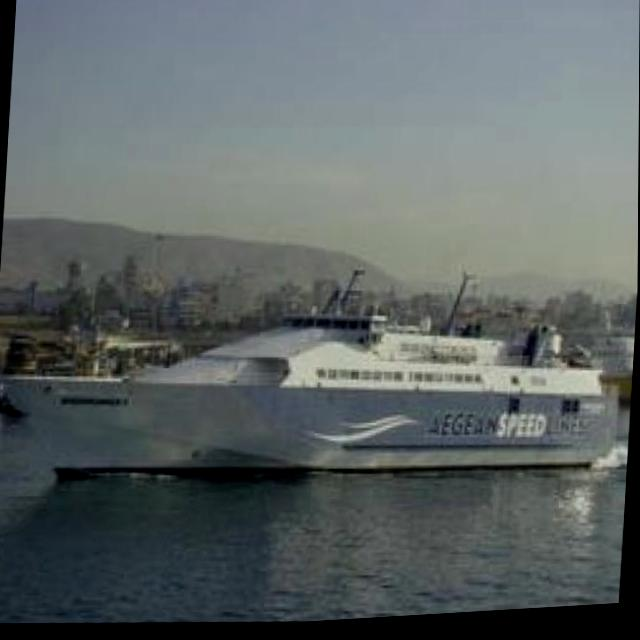ship2: (2, 317, 621, 481)
